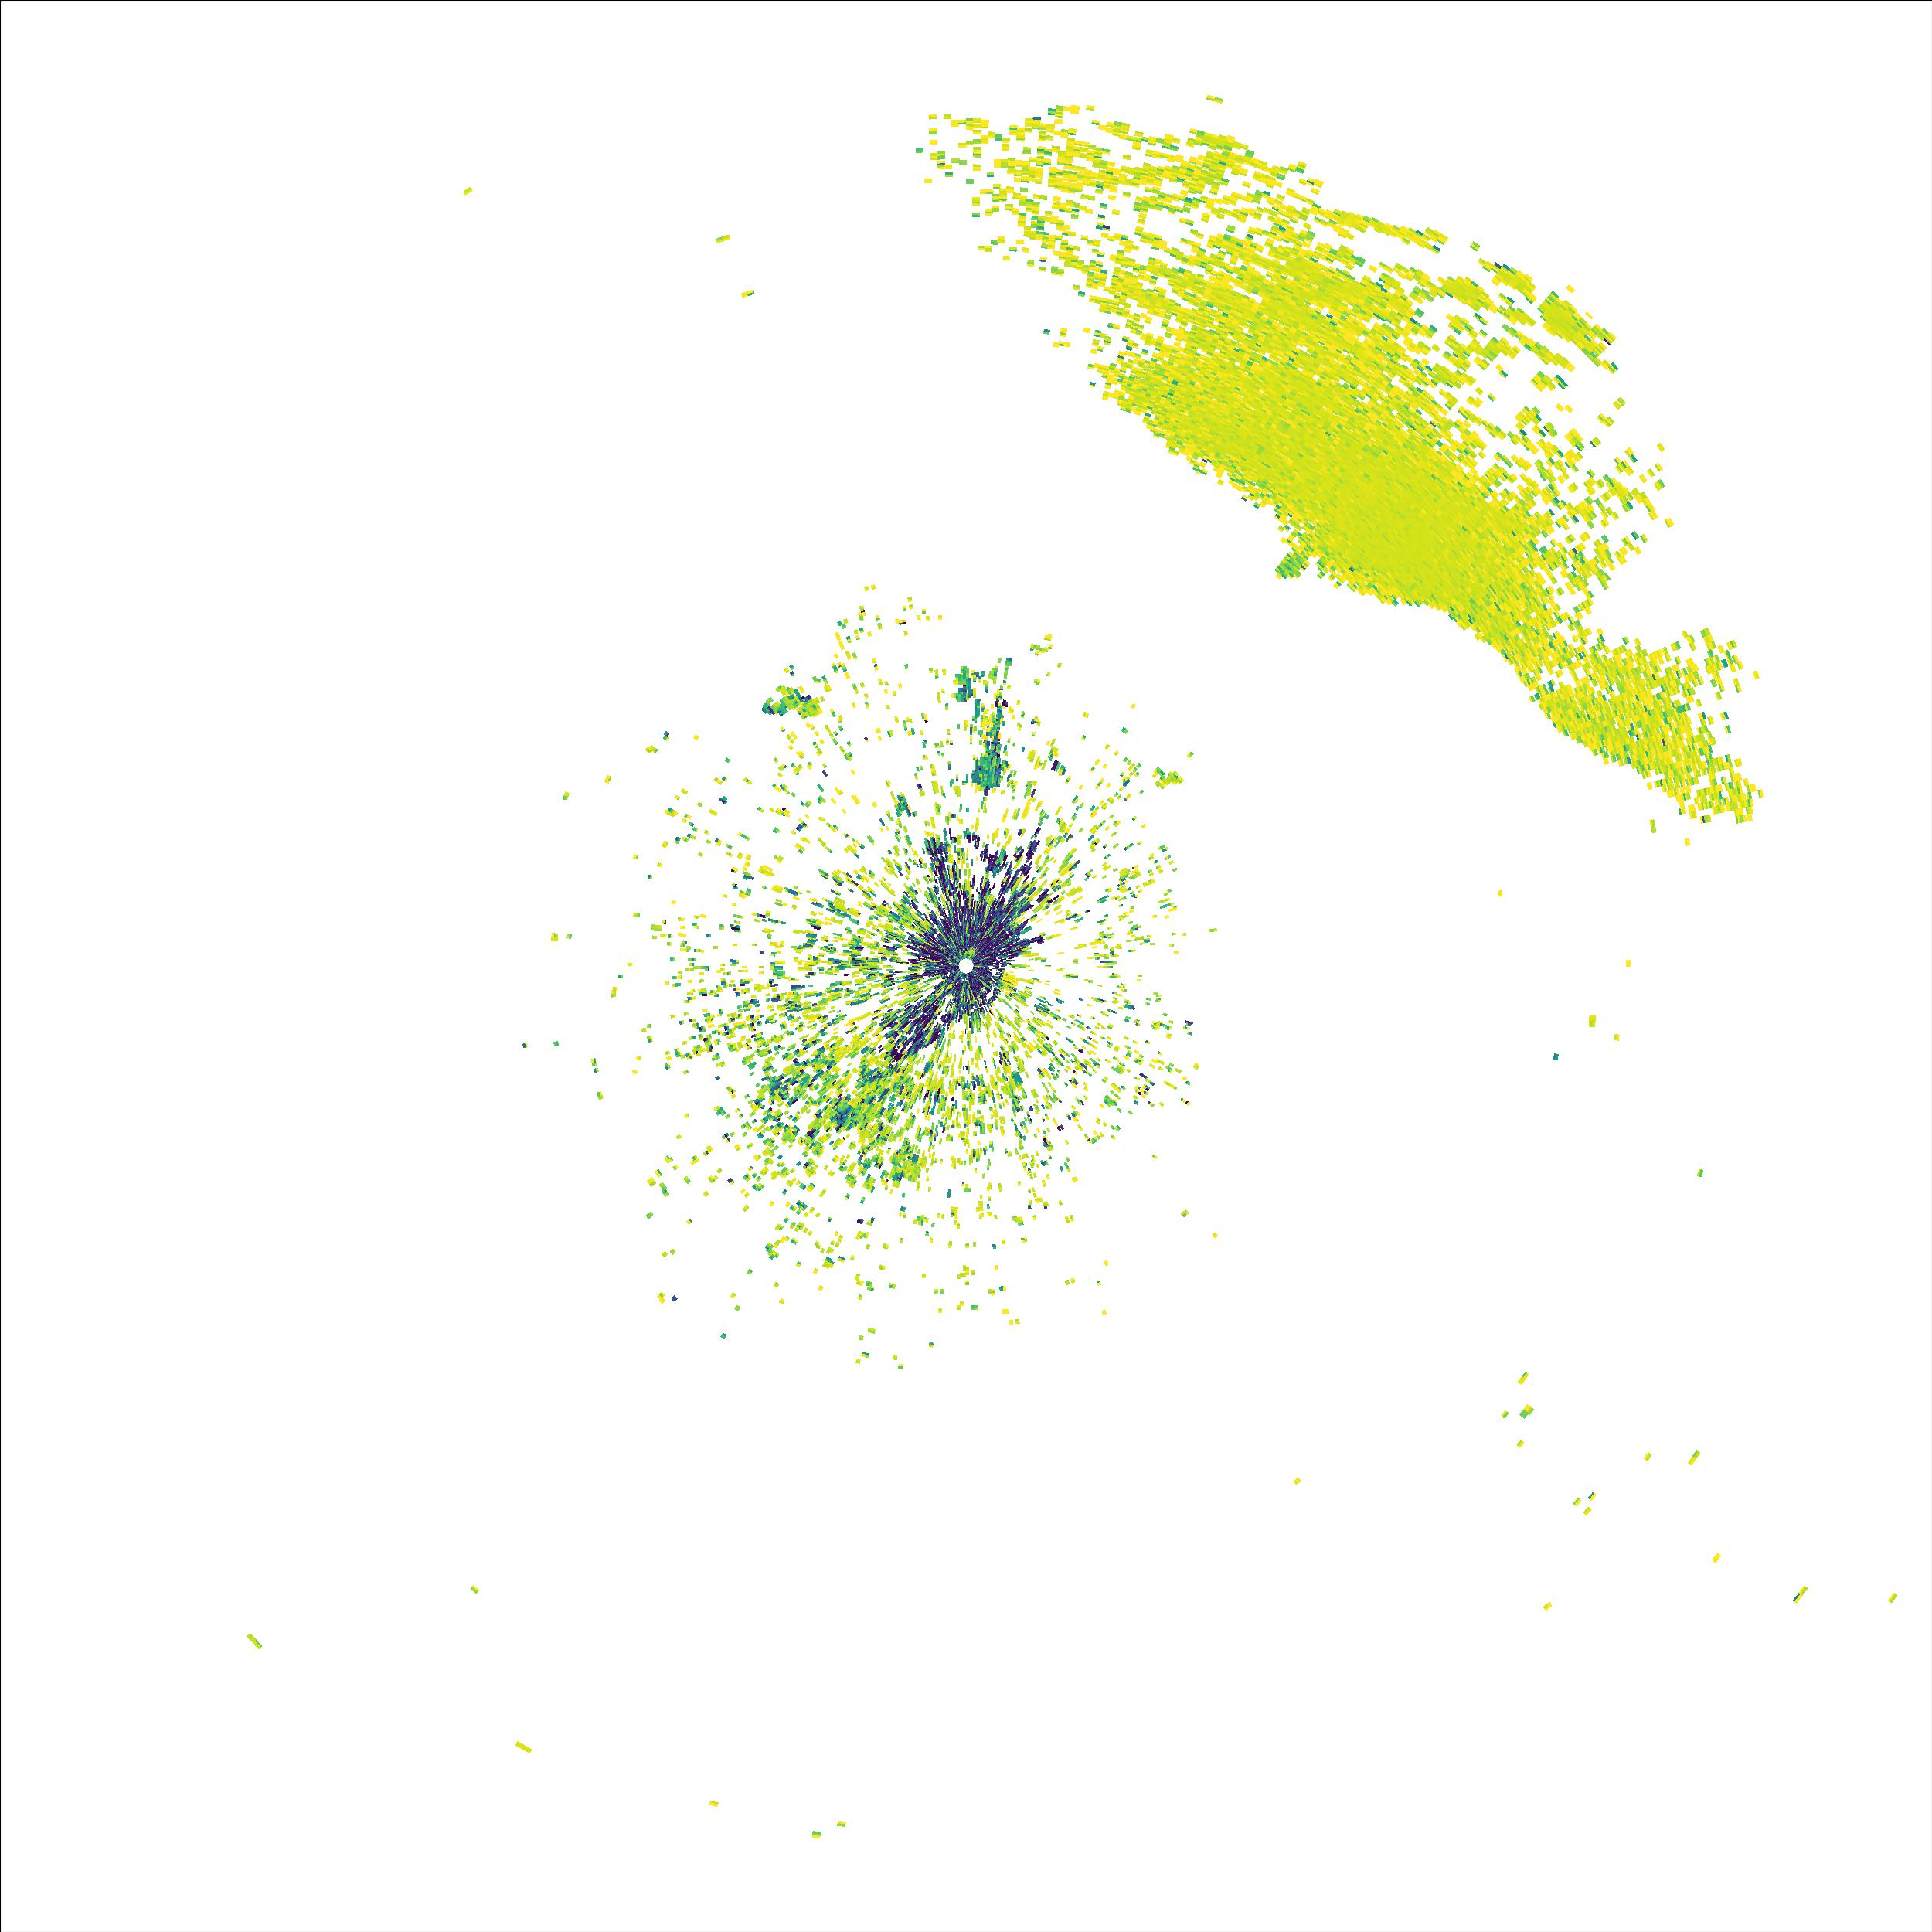fall: (1272, 550, 1315, 584)
